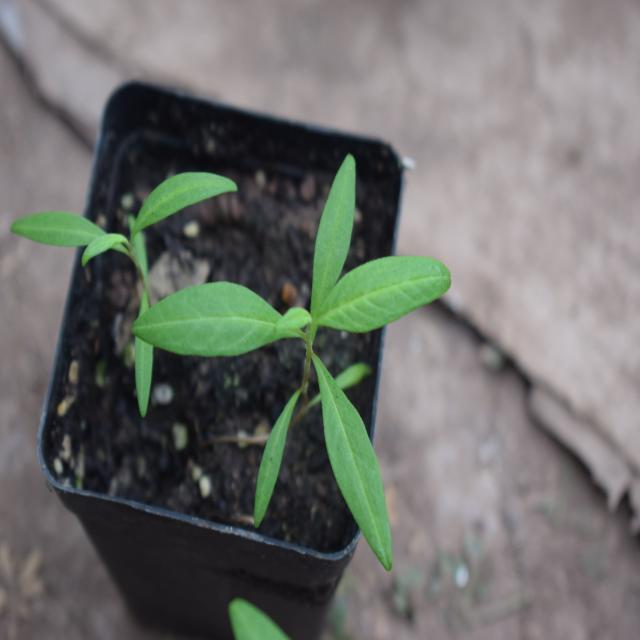white_smart_weed: (109, 153, 470, 590), (13, 143, 260, 319)
